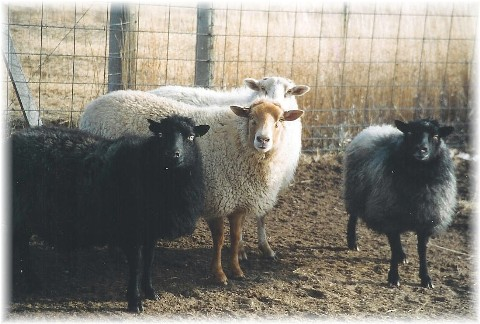sheep: (1, 121, 215, 292), (113, 101, 292, 270), (349, 120, 459, 298), (190, 73, 306, 144)
